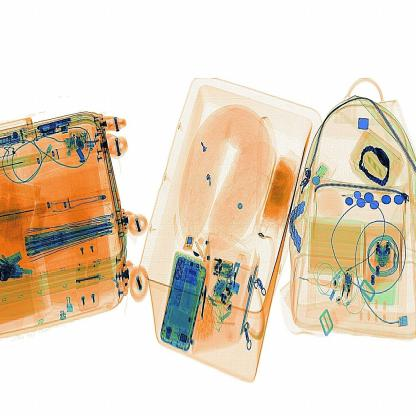wrench: (175, 230, 202, 258)
